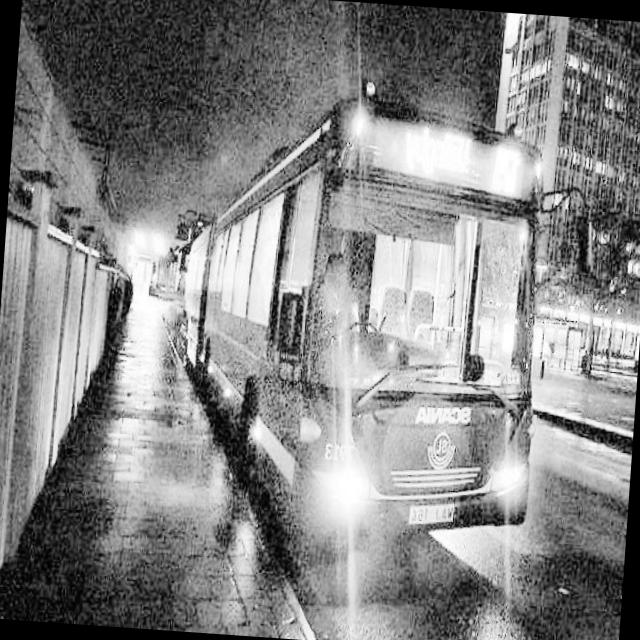Bus: (157, 70, 559, 559)
